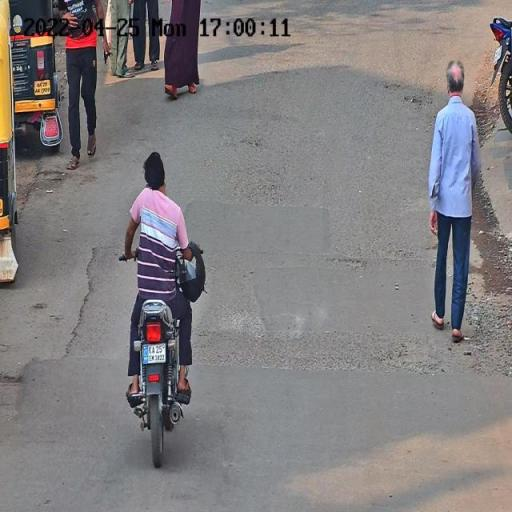numberplate: (143, 344, 166, 362)
using mobile: (143, 179, 154, 192)
